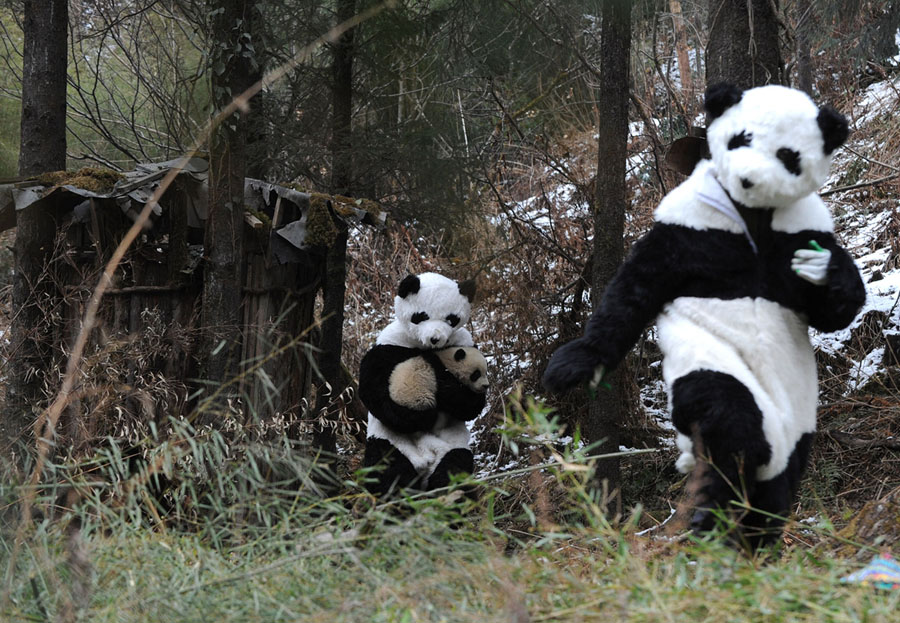panda: (350, 346, 506, 440)
